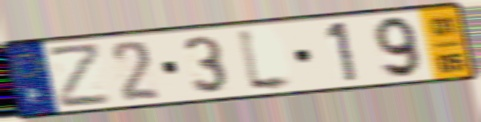1: (324, 19, 361, 86)
2: (111, 38, 163, 103)
3: (181, 34, 231, 95)
9: (369, 14, 425, 81)
L: (234, 24, 300, 95)
Z: (46, 40, 114, 111)
